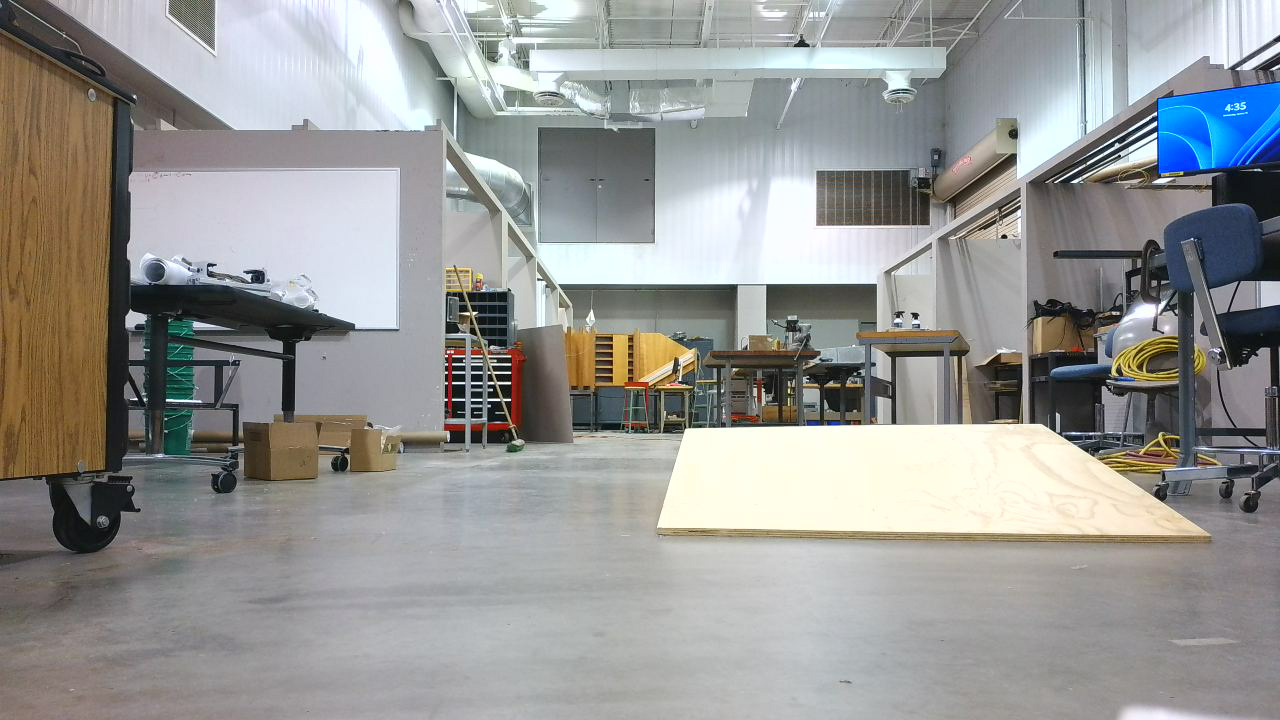ramp: (658, 425, 1224, 556)
